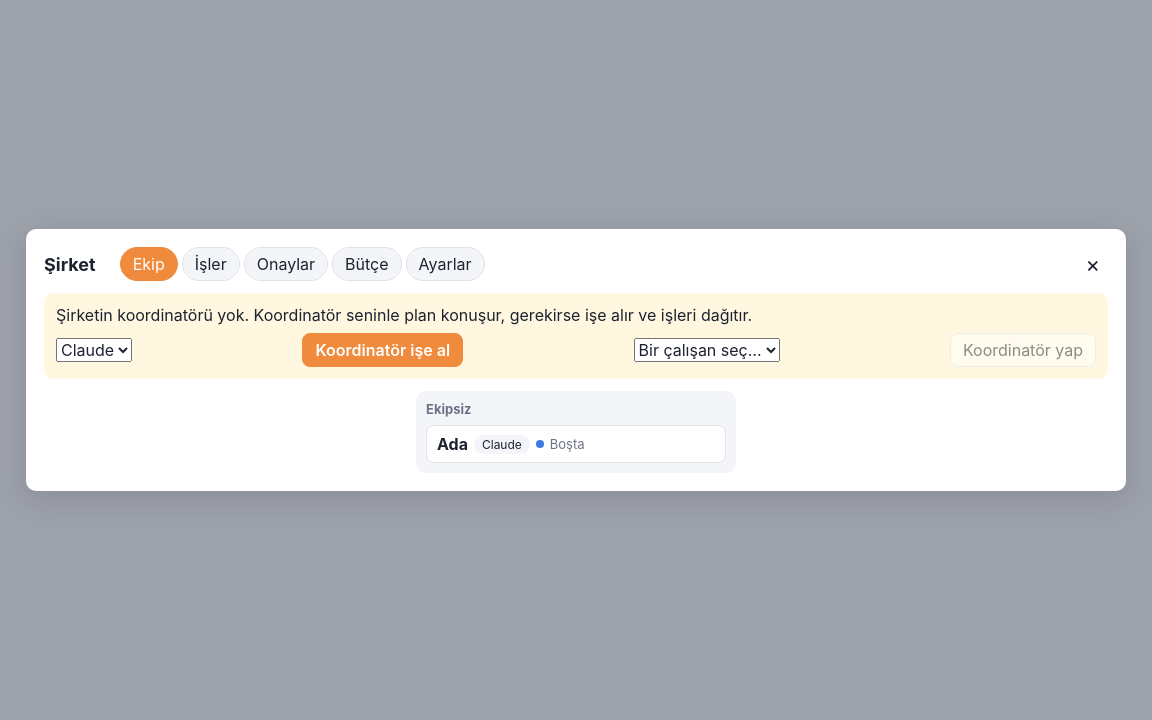
Test case: CompanyView › management cycle §3.4: a task card names its plan’s stream
Click the tab "İşler".
click(211, 264)  # box [182, 247, 240, 281]
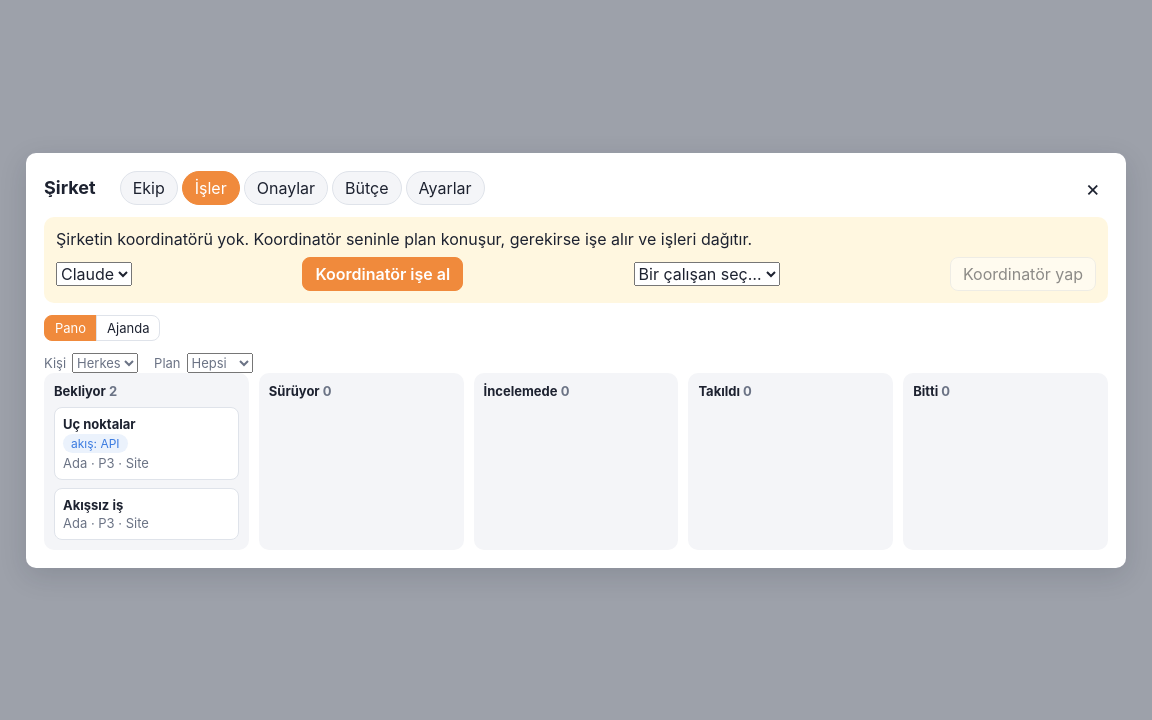
Expected: the text "Akışsız iş" does not show "akış"
Now the text "akış: API" is shown, box [63, 434, 128, 452]
